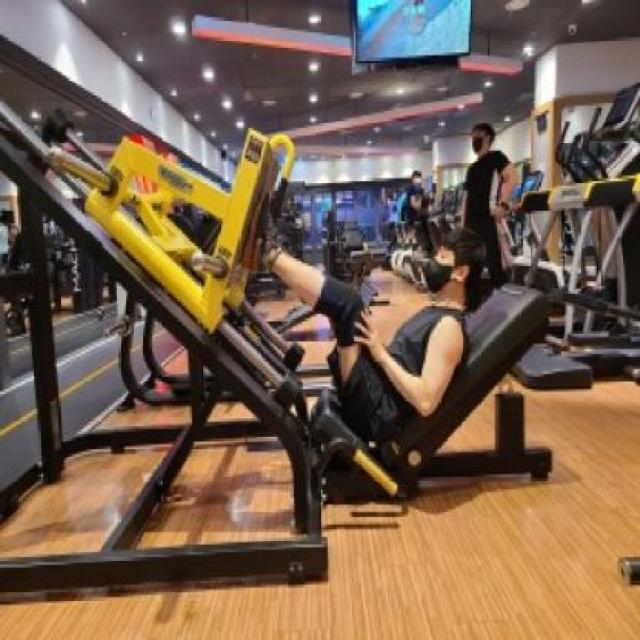leg press: (3, 69, 582, 594)
